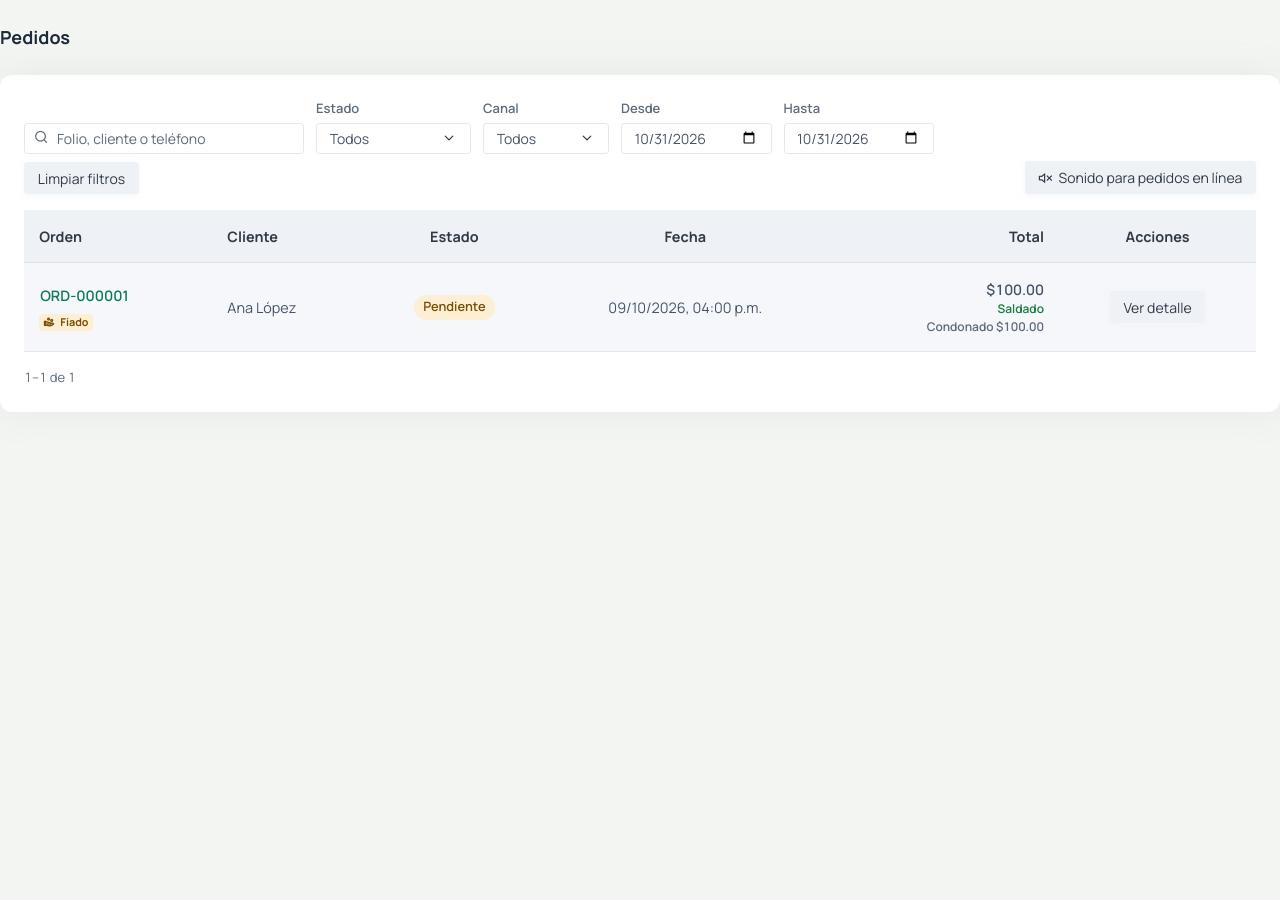
OrdersList › says «Saldado», not «Pagado», for a sale settled by what was forgiven, and what was undone (Fase 26B)
The image size is (1280, 900).
expect the text "Saldado" is shown: met, box [998,300,1044,317]
expect the text "Pagado" is not shown: met
Click the button "ORD-000001".
click(84, 296)  # box [39,284,130,308]
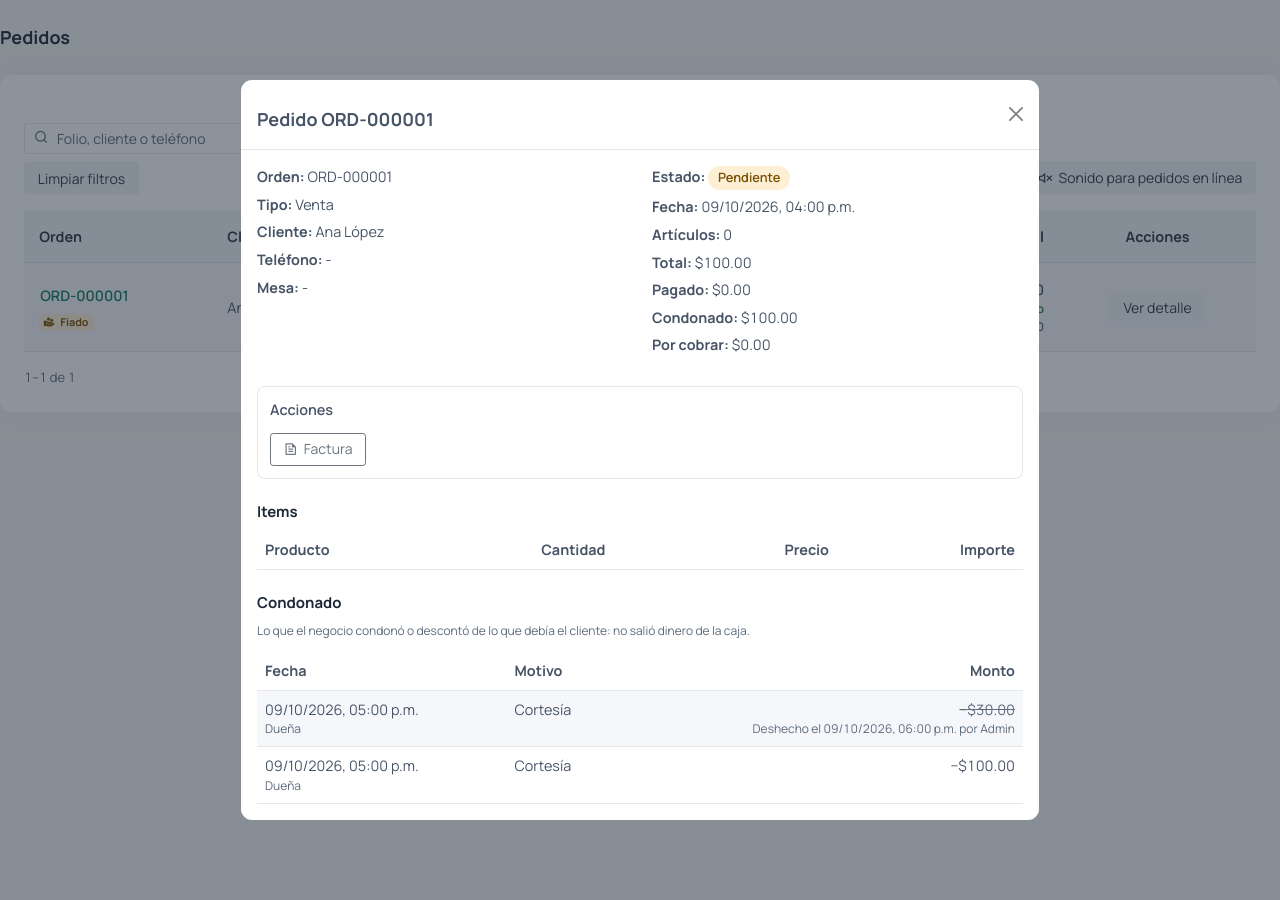
expect the heading "Condonado" is shown: met, box [257,592,342,612]
expect the text "Deshecho el 09/10/2026, 06:00 p.m. por Admin" is shown: met, box [753,720,1015,737]
